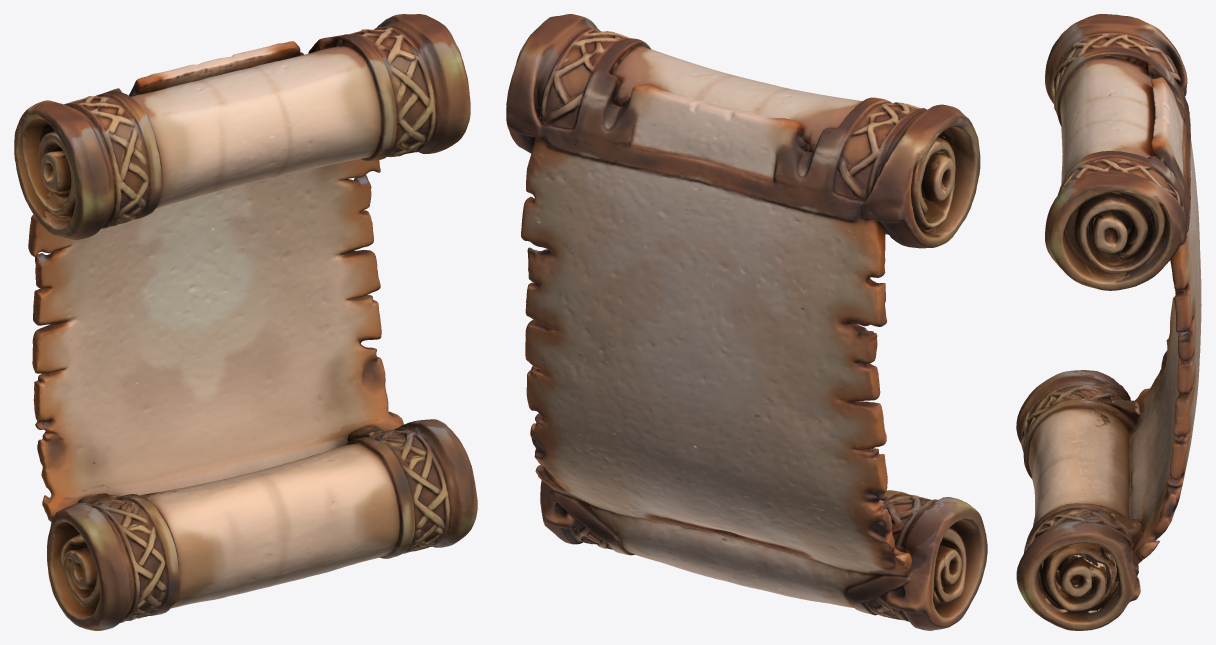
Rendered from AncientScroll.glb.
The picture shows the model from 3 angles, left to right: view 1: azimuth 30°, elevation 25°; view 2: azimuth 150°, elevation 25°; view 3: azimuth 270°, elevation 25°; orthographic projection. The views are drawn at different scales.
Bounding box in the file's own units: 1.55 × 1.9 × 0.7014.
1 material, 1 textured.
